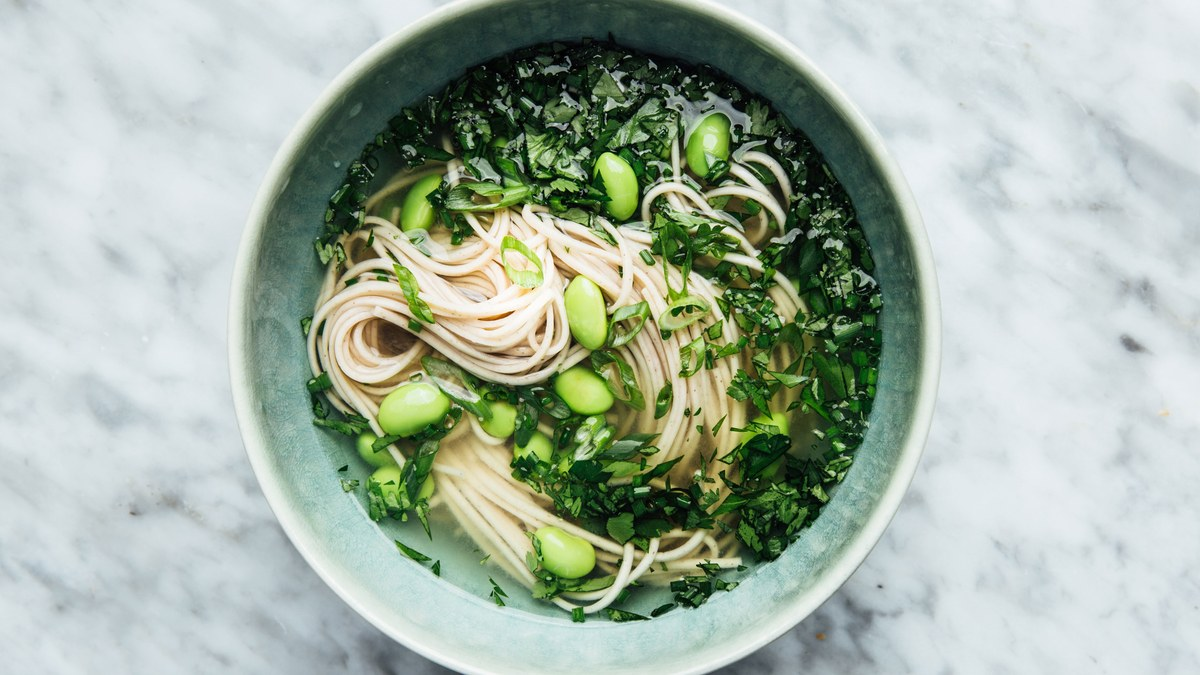Soba: (284, 178, 762, 610)
